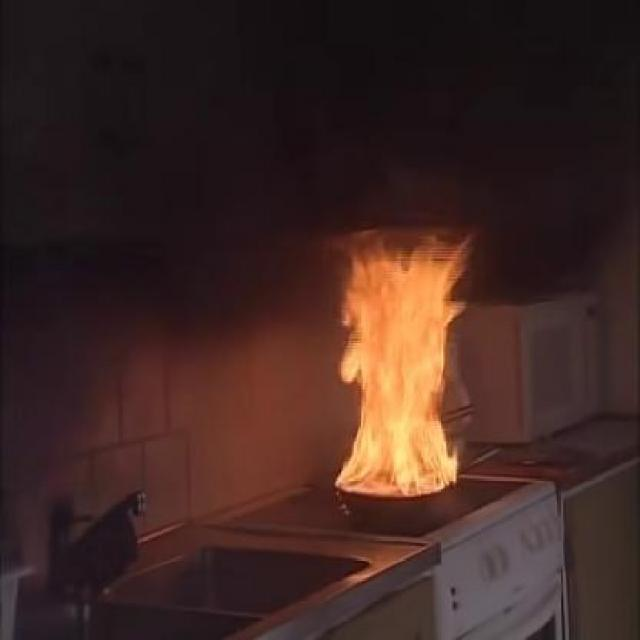fire: (330, 239, 459, 496)
smoke: (392, 160, 476, 234), (268, 186, 308, 271)
